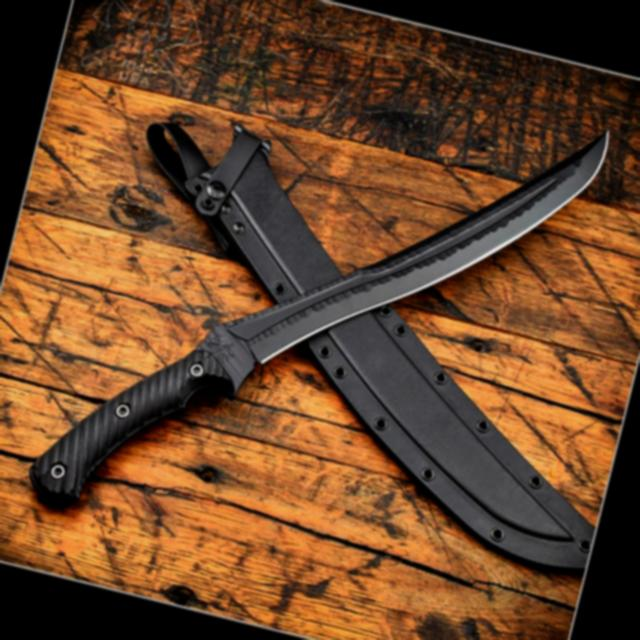short sword: (6, 9, 618, 628)
